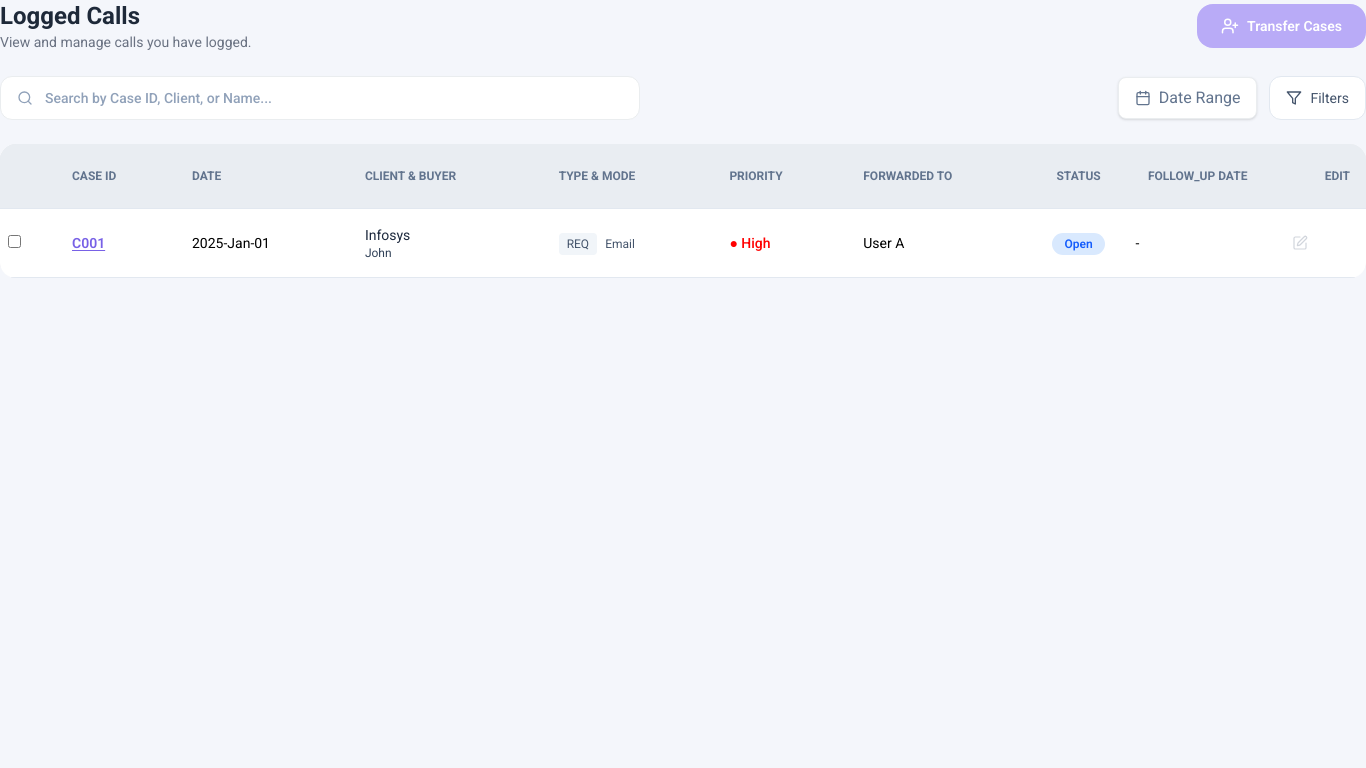
Scenario: LoggedCalls Component › opens transfer modal when button clicked
The image size is (1366, 768).
Click the checkbox.
click(14, 241)  # box [8,234,21,248]
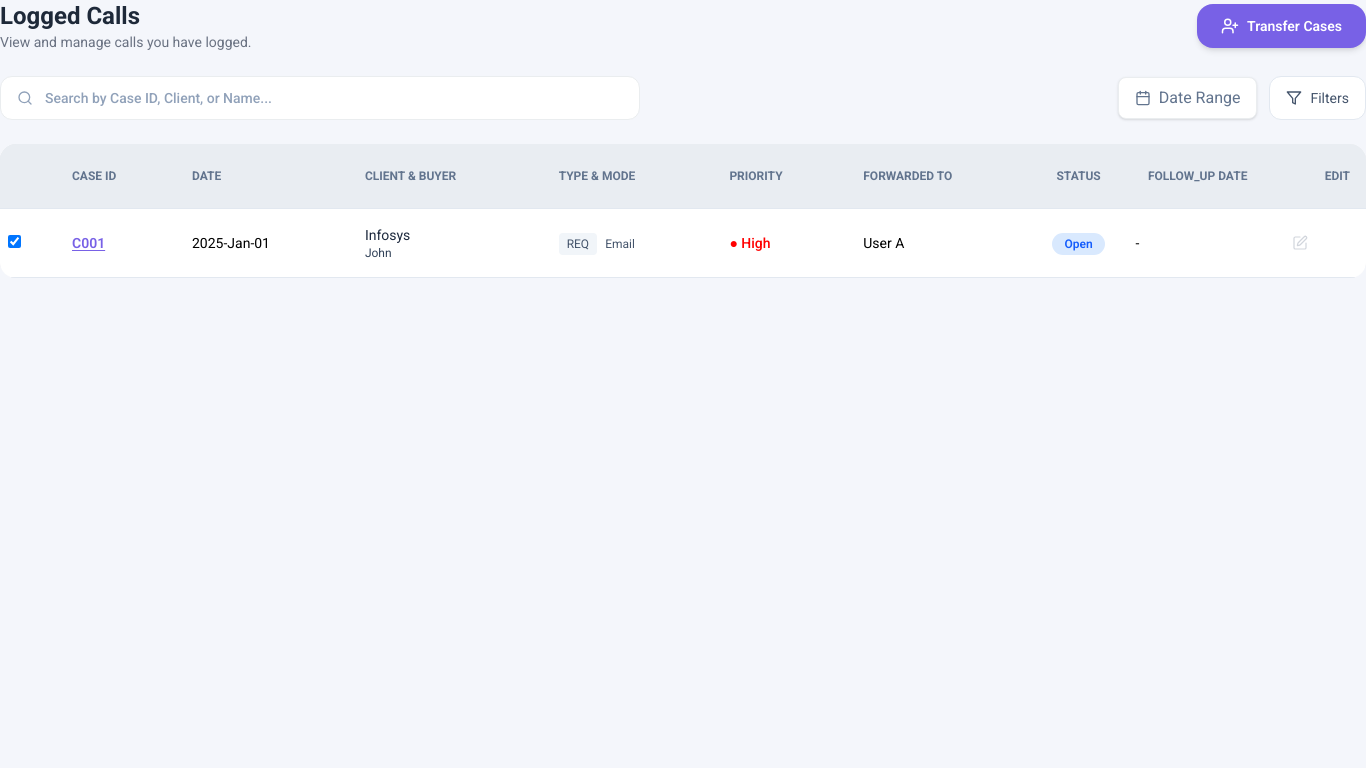
Click the button "Transfer Cases".
click(1282, 26)  # box [1197,4,1365,48]
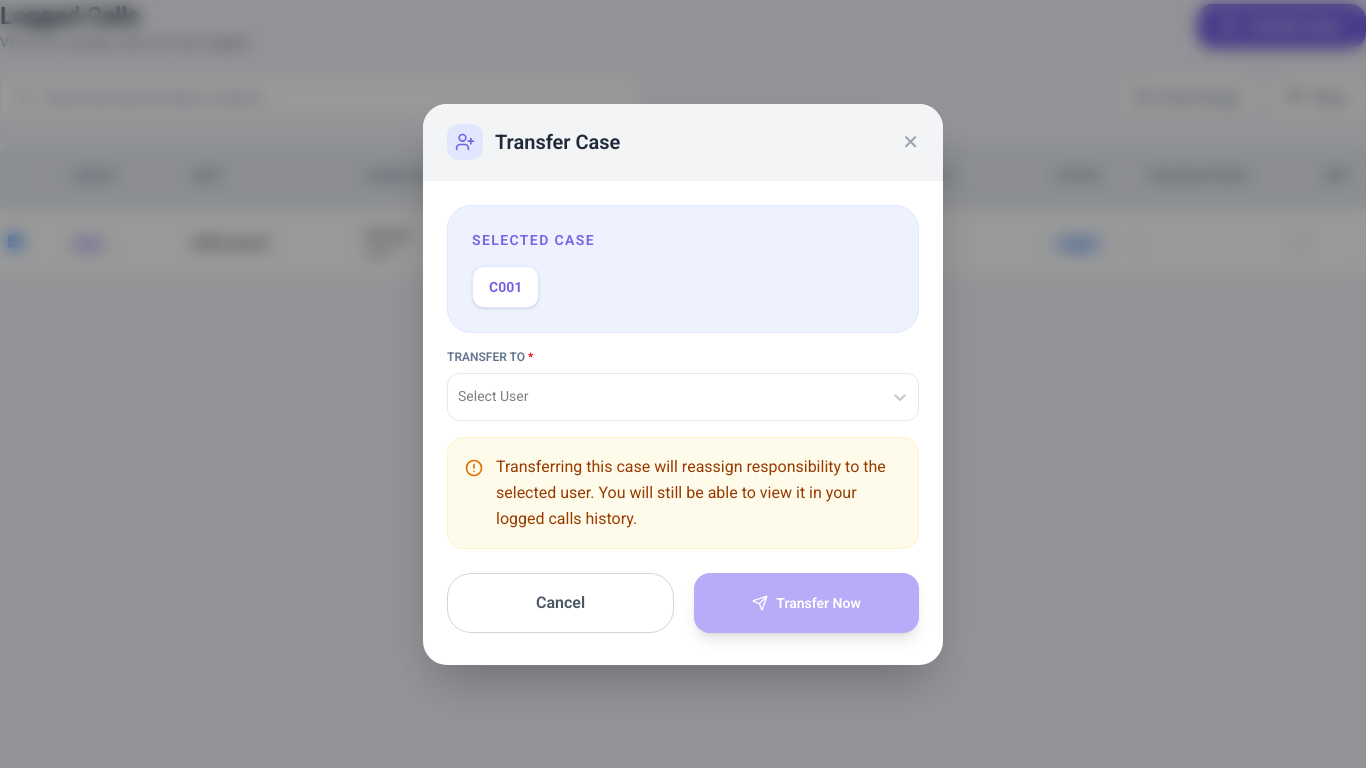
Expected: the heading "Transfer Case" is shown, [495,128,620,156]
